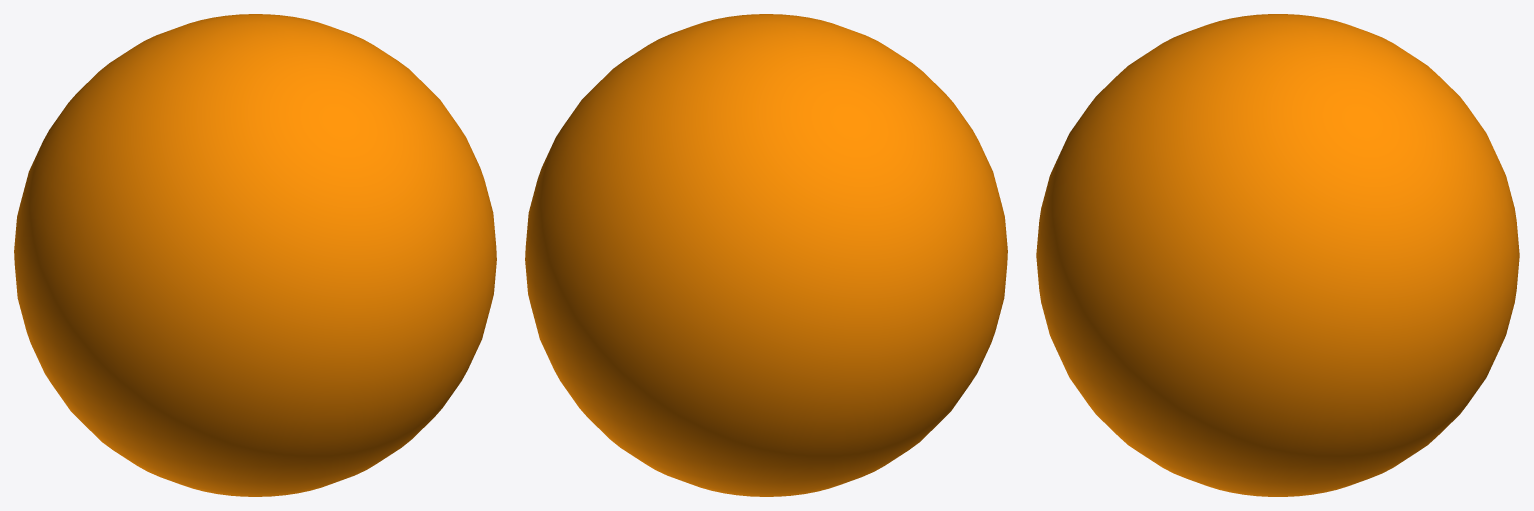
File: balls.glb
3 views of the same model, side by side, from view 1: azimuth 30°, elevation 25°; view 2: azimuth 150°, elevation 25°; view 3: azimuth 270°, elevation 25° (orthographic).
Parts seen in each view (by area): view 1: ball1; view 2: ball1; view 3: ball1.
Part boxes in pixels (box(x1,y1,x2,y2)): ball1: box(14, 14, 496, 496); ball1: box(525, 14, 1007, 496); ball1: box(1036, 14, 1519, 496).
Bounding box in the file's own units: 9.98 × 10 × 10.
